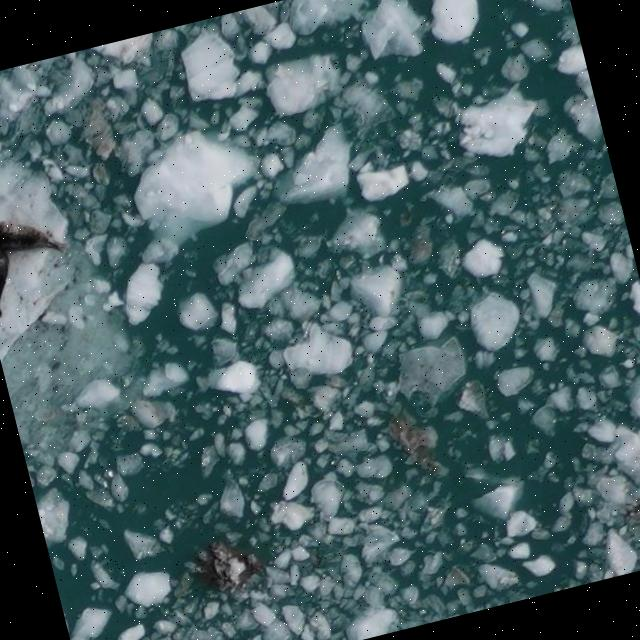seal: (0, 219, 71, 259), (0, 251, 9, 298)
